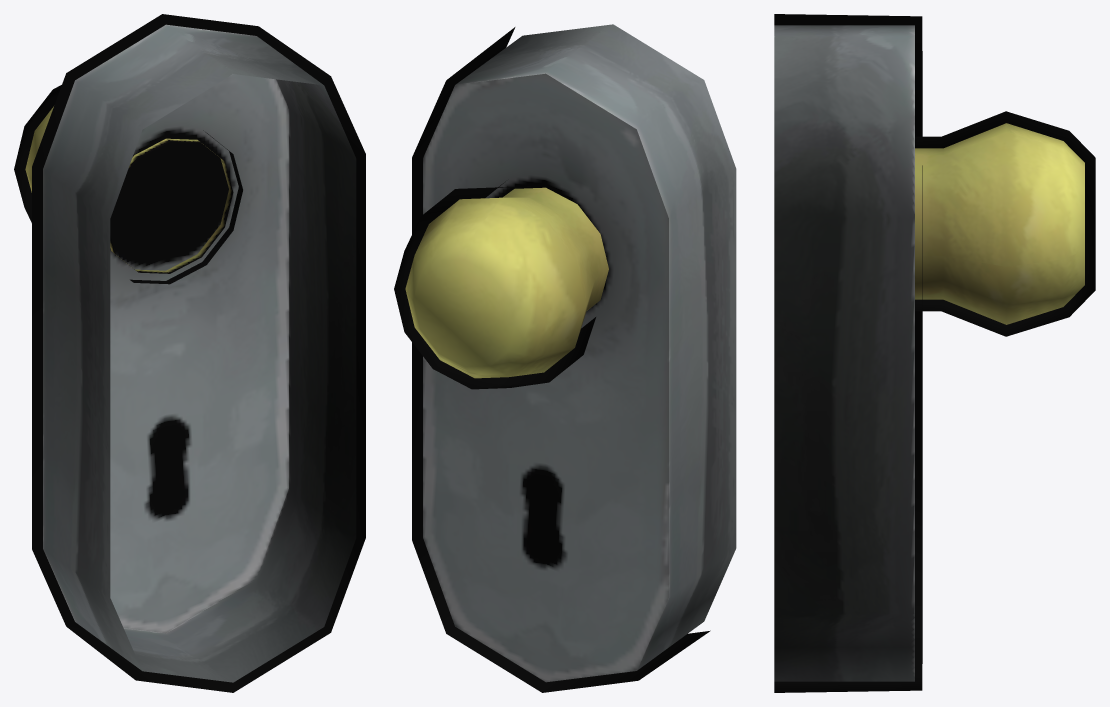
Rendered from DoorLock.fbx.
3 renders of one model, left to right at view 1: azimuth 30°, elevation 25°; view 2: azimuth 150°, elevation 25°; view 3: azimuth 270°, elevation 25°, orthographic. The views are drawn at different scales.
Visible parts, largest first — view 1: Door; view 2: Door; view 3: Door.
Boxes of the visible parts, left/top/right/bottom form: Door: left=14, top=14, right=365, bottom=692; Door: left=394, top=24, right=736, bottom=692; Door: left=774, top=14, right=1095, bottom=692.
Bounding box in the file's own units: 13.43 × 13.52 × 30.45.
